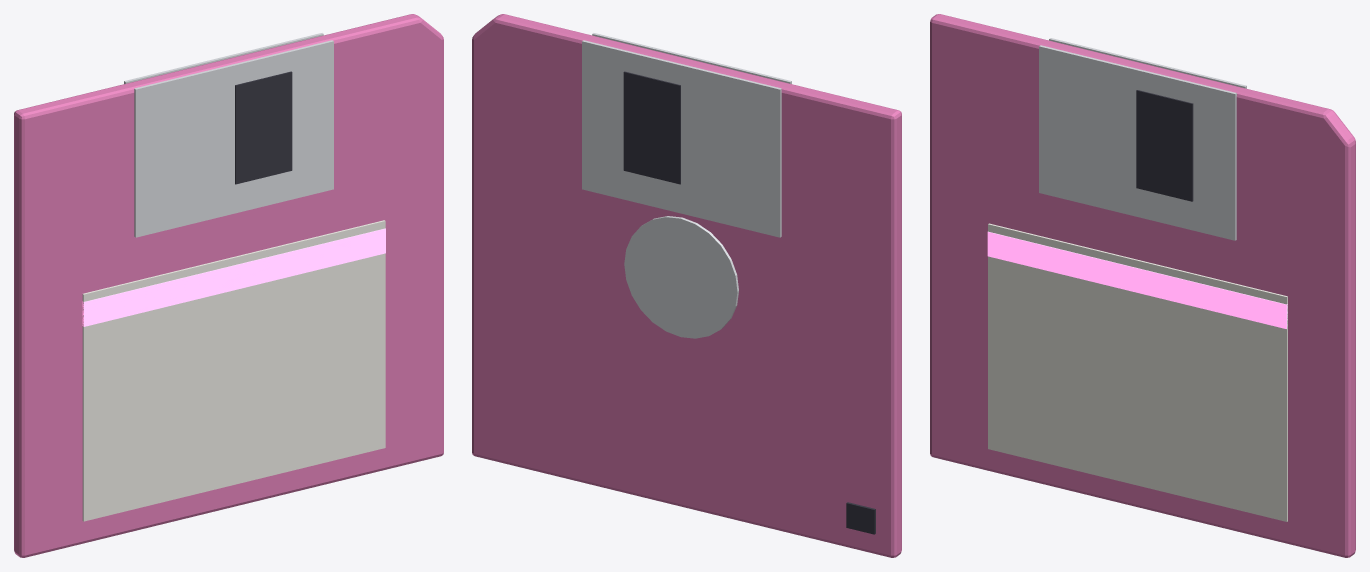
File: floppy_pink.glb
3 renders of one model, left to right at view 1: azimuth 30°, elevation 25°; view 2: azimuth 150°, elevation 25°; view 3: azimuth 330°, elevation 25°, orthographic.
Visible parts, largest first — view 1: floppy_pink; view 2: floppy_pink; view 3: floppy_pink.
Part boxes in pixels (bbox=[...]): floppy_pink: bbox=[14, 14, 443, 557]; floppy_pink: bbox=[472, 14, 901, 557]; floppy_pink: bbox=[930, 14, 1355, 557].
Size of the model in its own units: 0.9 by 0.9 by 0.049.
